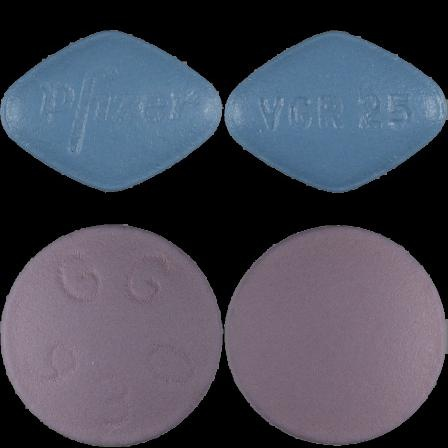43353-764: (0, 0, 224, 224)
